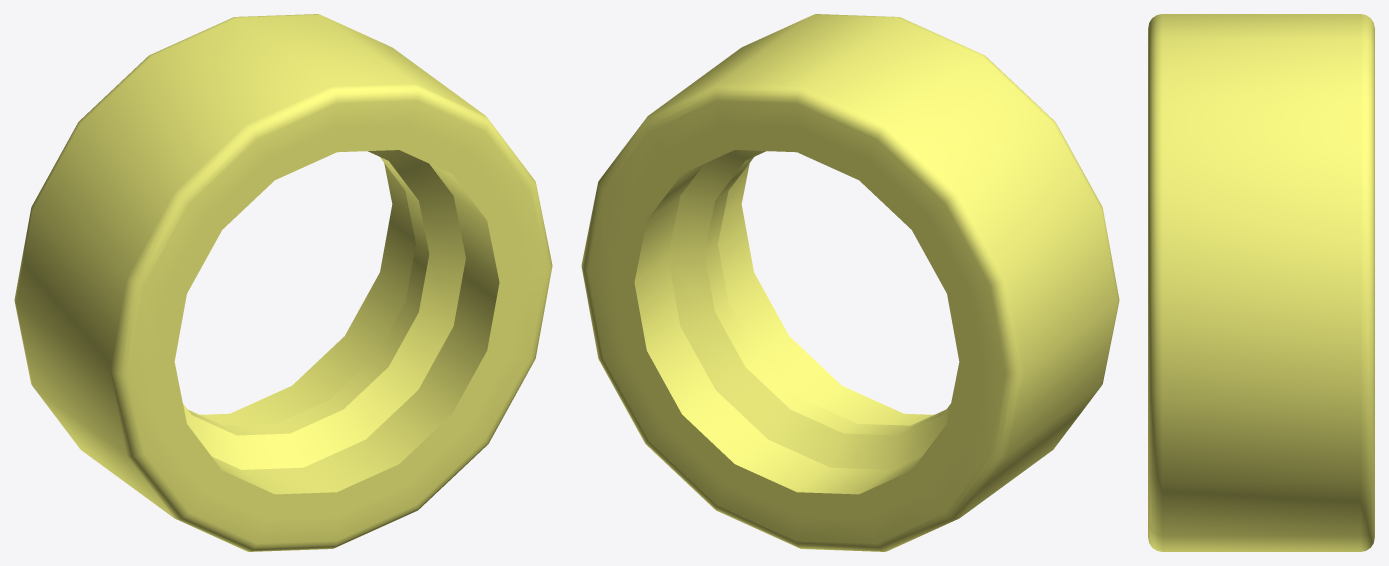
3 renders of one model, left to right at view 1: azimuth 30°, elevation 25°; view 2: azimuth 150°, elevation 25°; view 3: azimuth 270°, elevation 25°, orthographic. The views are drawn at different scales.
Visible parts, largest first — view 1: 50951.dat; view 2: 50951.dat; view 3: 50951.dat.
Boxes of the visible parts, x1,y1,x2,y2 form: 50951.dat: (14, 14, 552, 551); 50951.dat: (581, 14, 1119, 551); 50951.dat: (1148, 14, 1374, 551).
Size of the model in its own units: 0.0152 by 0.0152 by 0.0064.
